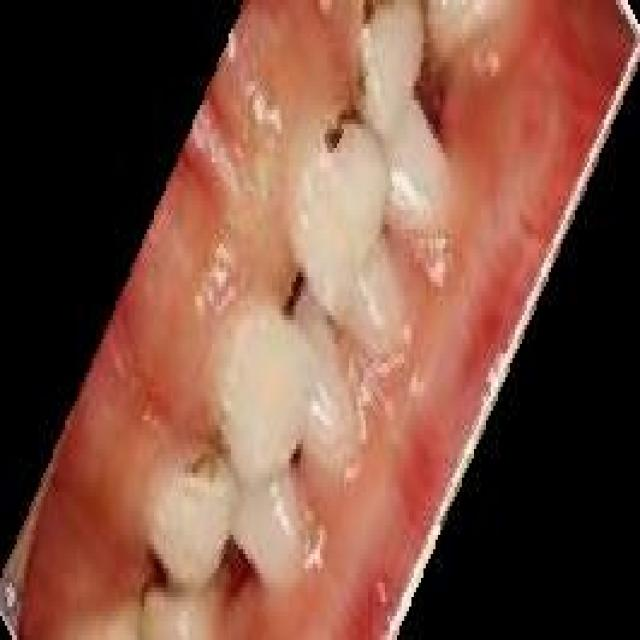caries: (314, 84, 376, 187), (178, 429, 225, 512)
